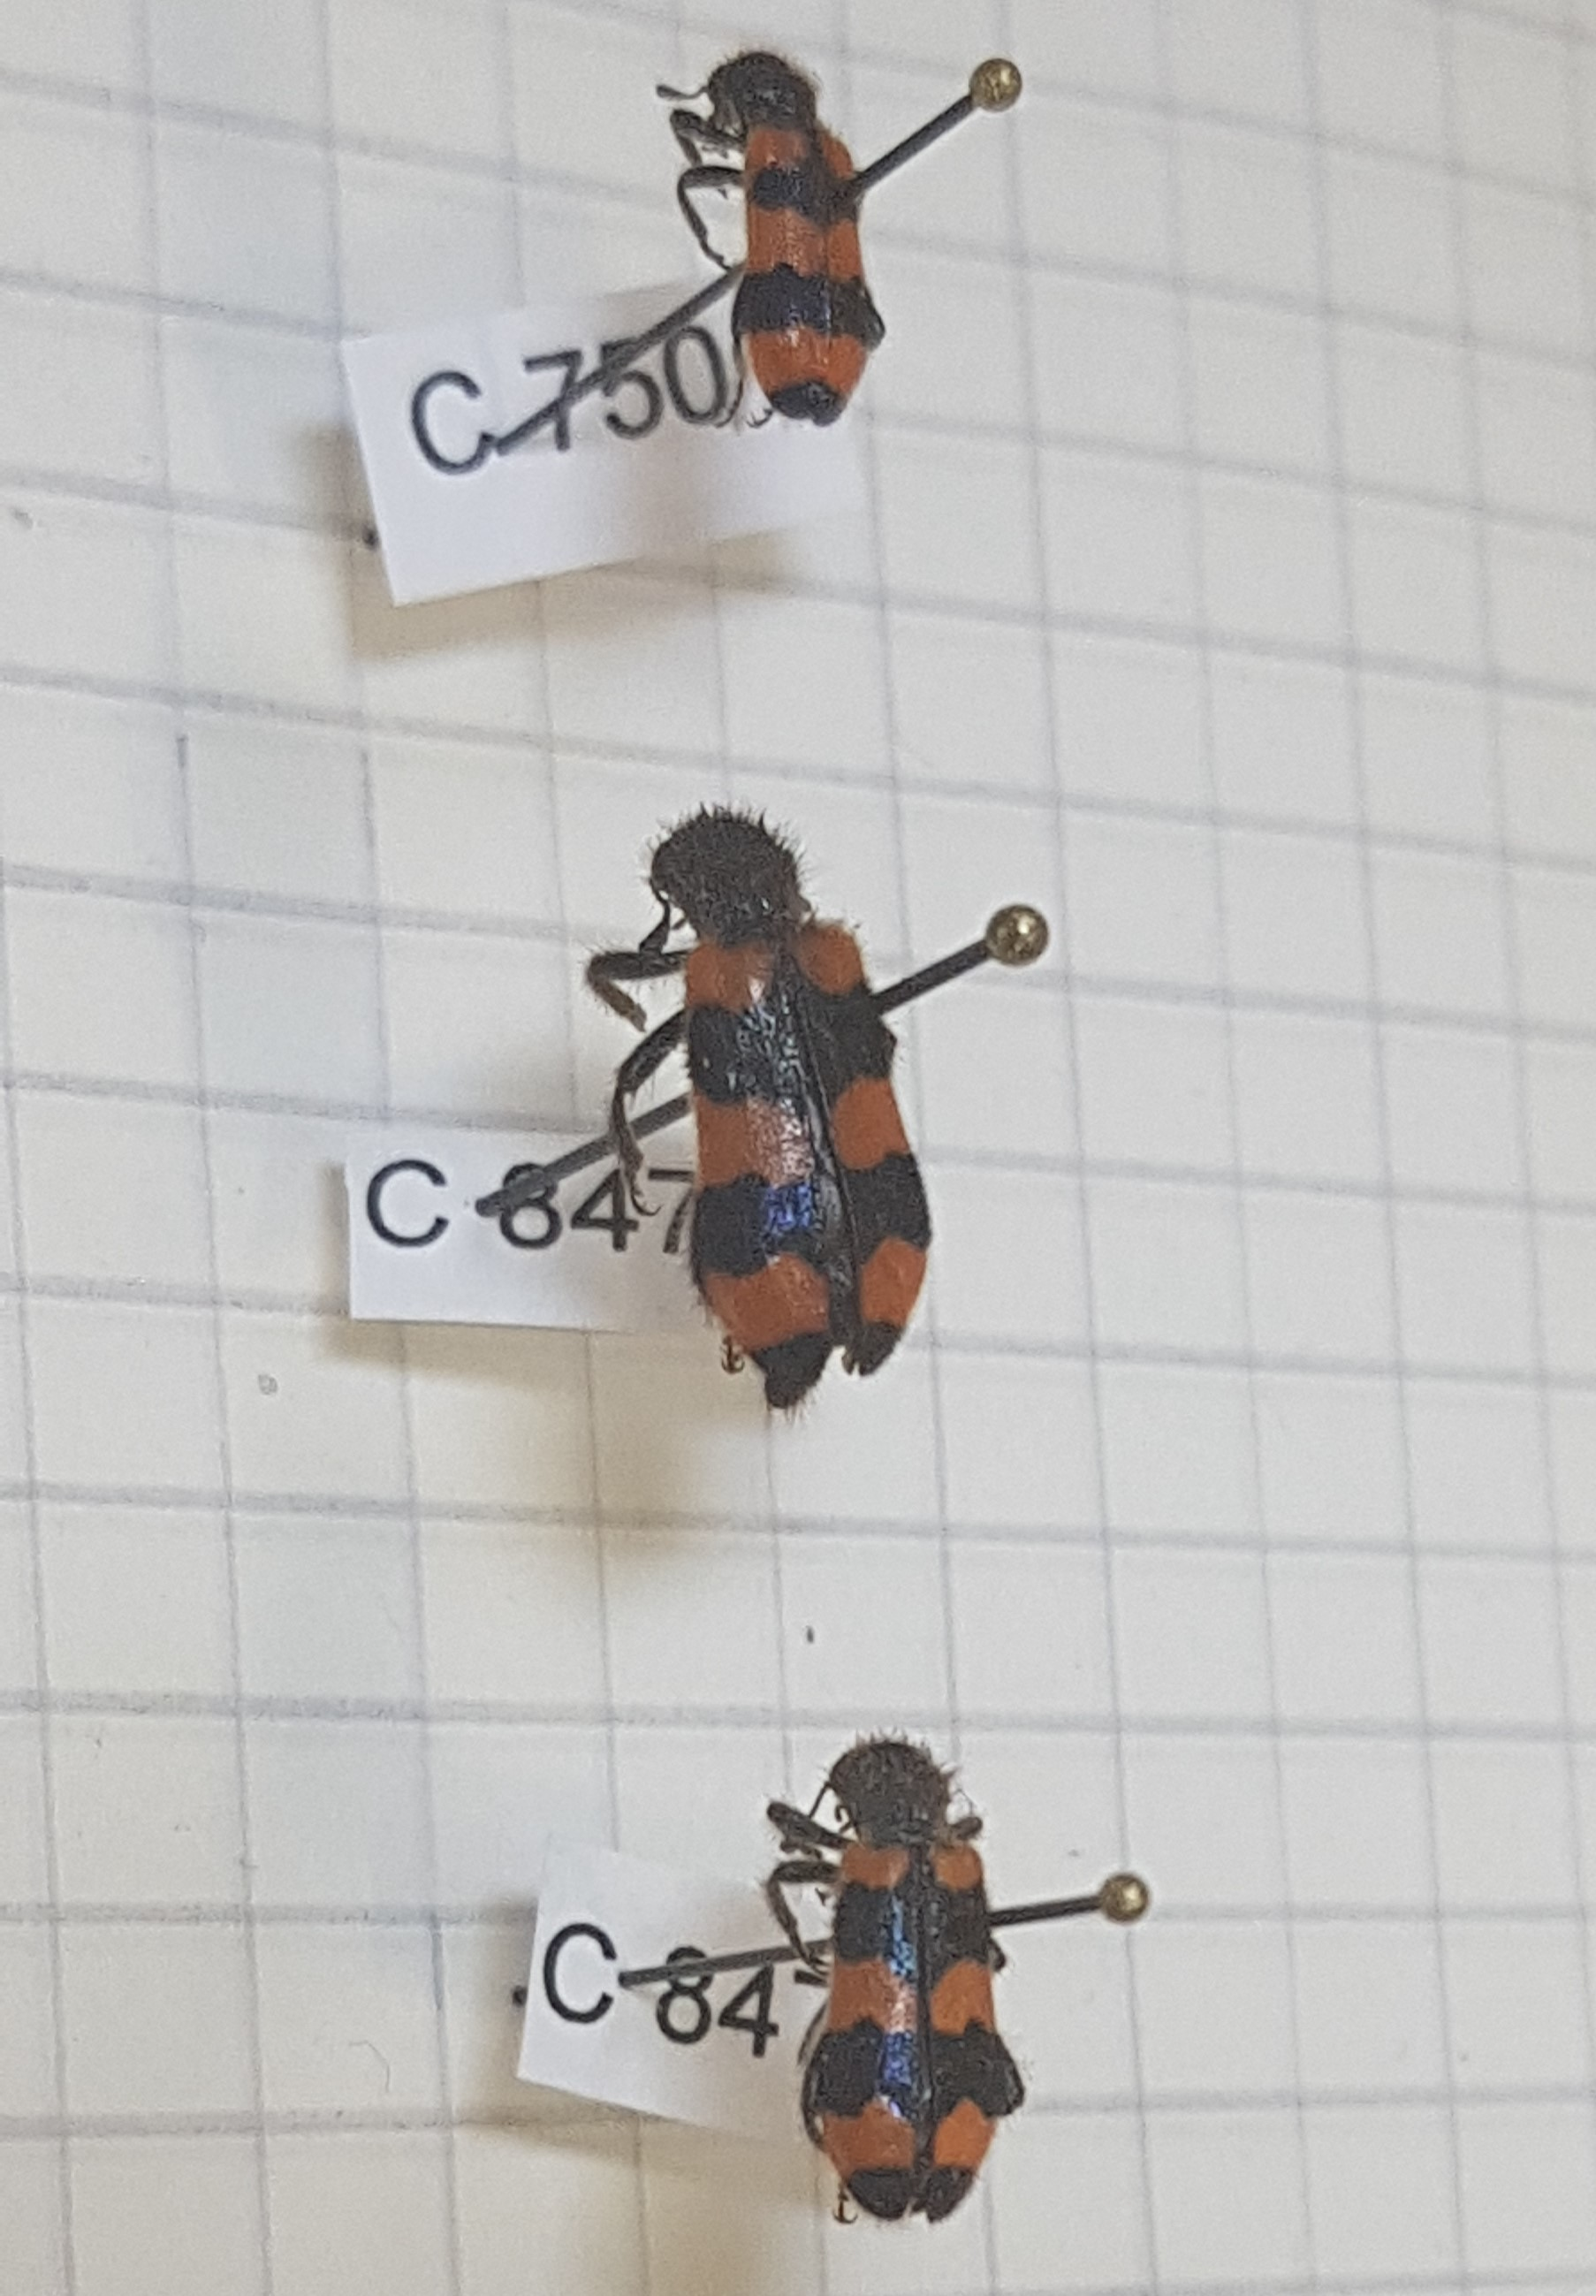trichodes_apiarius: (619, 789, 945, 1446), (754, 1708, 1041, 2237), (652, 42, 904, 429)
